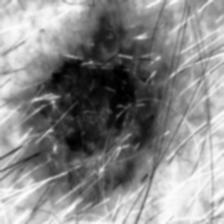Potentially Malignant Skin Tumors: (6, 6, 167, 194)
